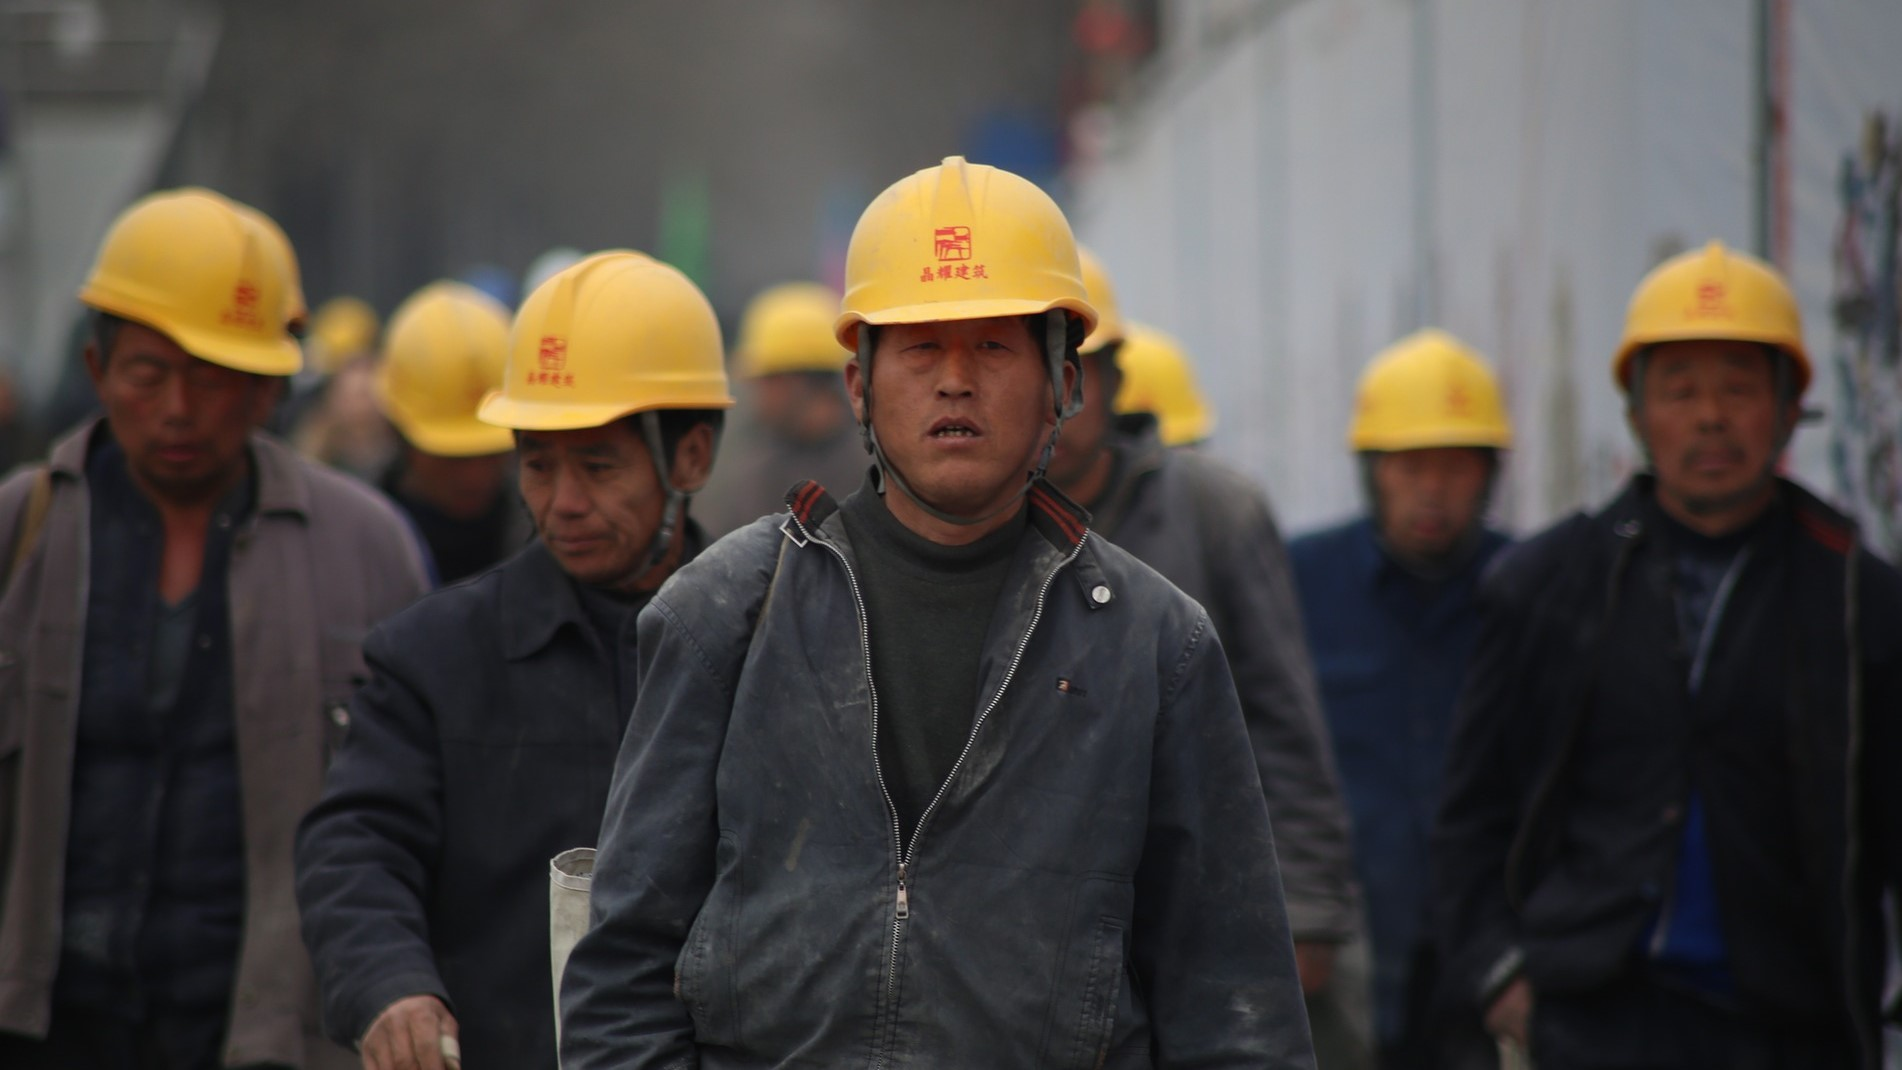Person_wearing_helmet: (816, 138, 1096, 360)
